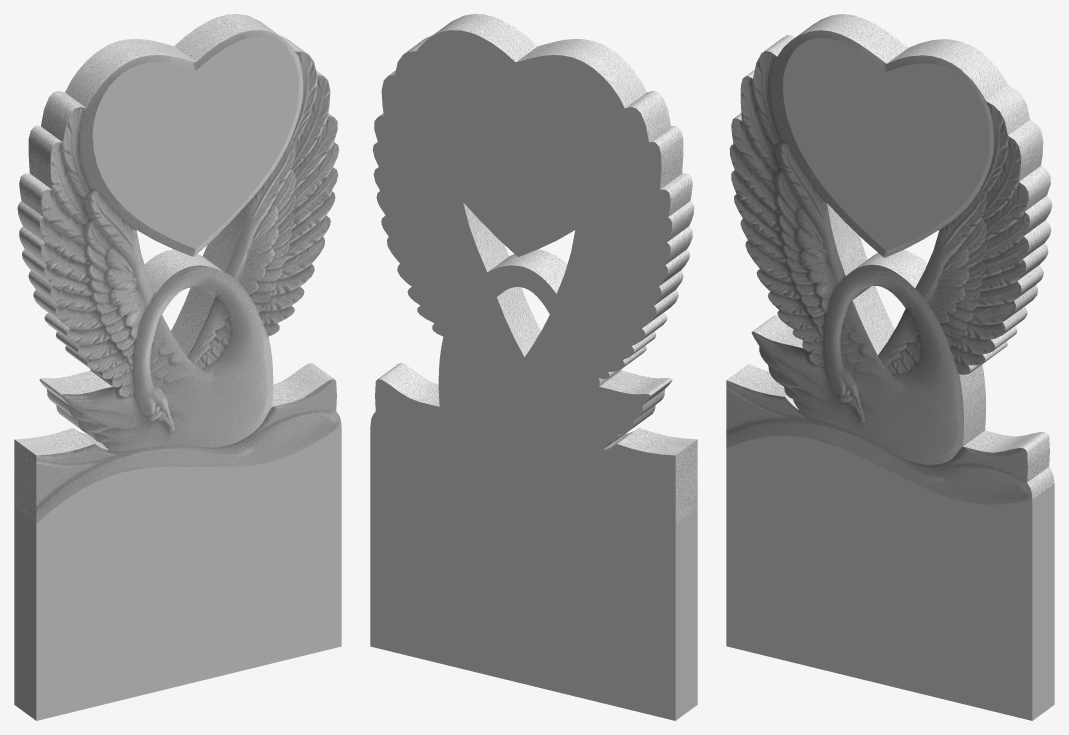
The model's file is cn43e7a86b4b_tkf.glb.
The picture shows the model from 3 angles, left to right: view 1: azimuth 30°, elevation 25°; view 2: azimuth 150°, elevation 25°; view 3: azimuth 330°, elevation 25°; orthographic projection.
Parts seen in each view (by area): view 1: Pam-d03-015, Pam-d03-015_2_notexture; view 2: Pam-d03-015, Pam-d03-015_2_notexture; view 3: Pam-d03-015, Pam-d03-015_2_notexture.
Part boxes in pixels (<box>): Pam-d03-015: <box>14,36,341,720</box>; Pam-d03-015_2_notexture: <box>14,14,341,523</box>; Pam-d03-015: <box>370,30,697,720</box>; Pam-d03-015_2_notexture: <box>375,14,697,522</box>; Pam-d03-015: <box>726,38,1054,720</box>; Pam-d03-015_2_notexture: <box>726,14,1054,504</box>.
Bounding box in the file's own units: 0.4 × 0.8 × 0.05.
1 material, 1 textured.
